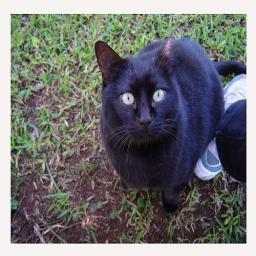catnose: (138, 107, 152, 131)
